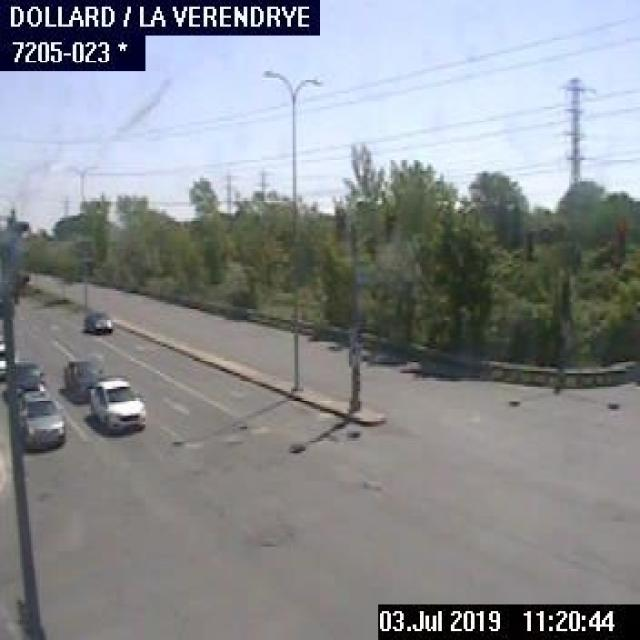vehicle: (86, 373, 145, 435), (13, 388, 68, 453), (63, 356, 103, 404), (4, 358, 45, 392), (80, 307, 113, 333), (0, 333, 5, 377)
